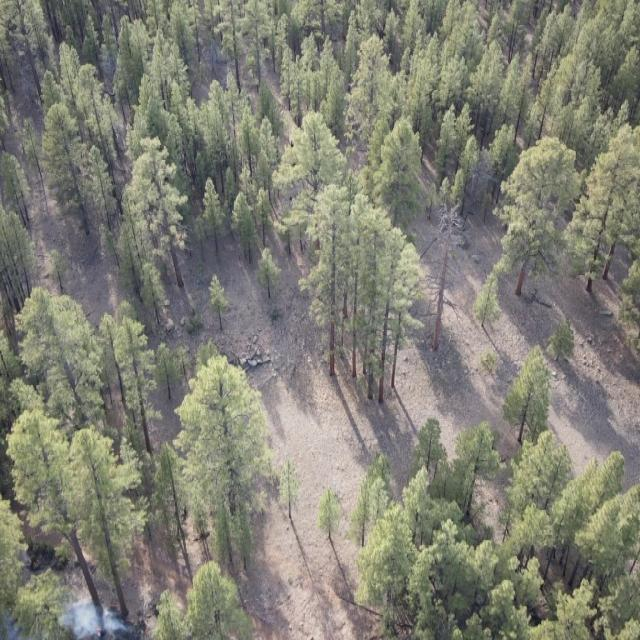fire: (94, 626, 105, 634)
smoke: (0, 594, 142, 640)
